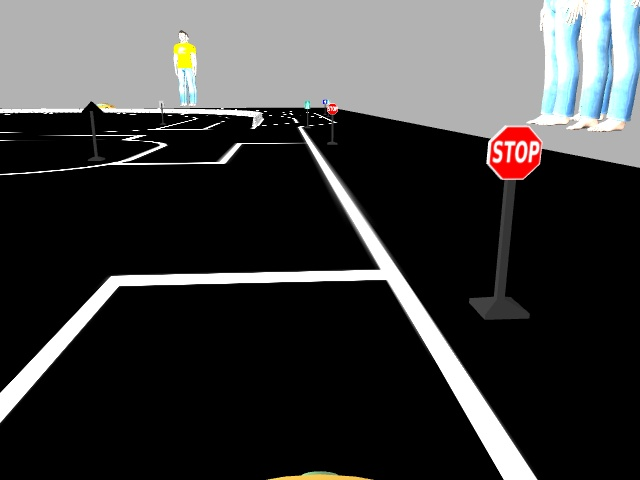Stop: (485, 125, 543, 179), (327, 102, 338, 114)
